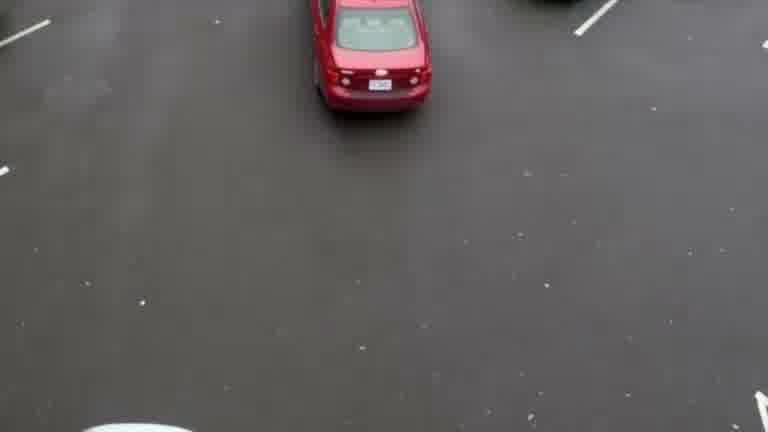car: (295, 0, 446, 161)
